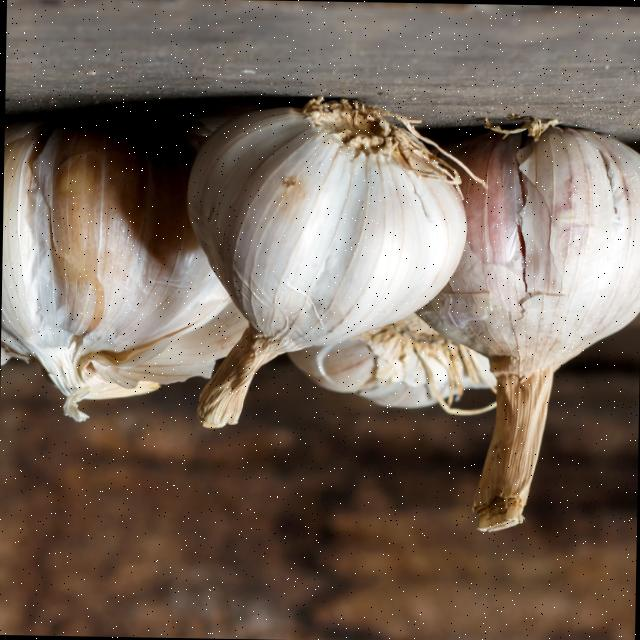garlic: (187, 97, 465, 427), (417, 128, 640, 530), (0, 122, 246, 420), (288, 313, 495, 414)
